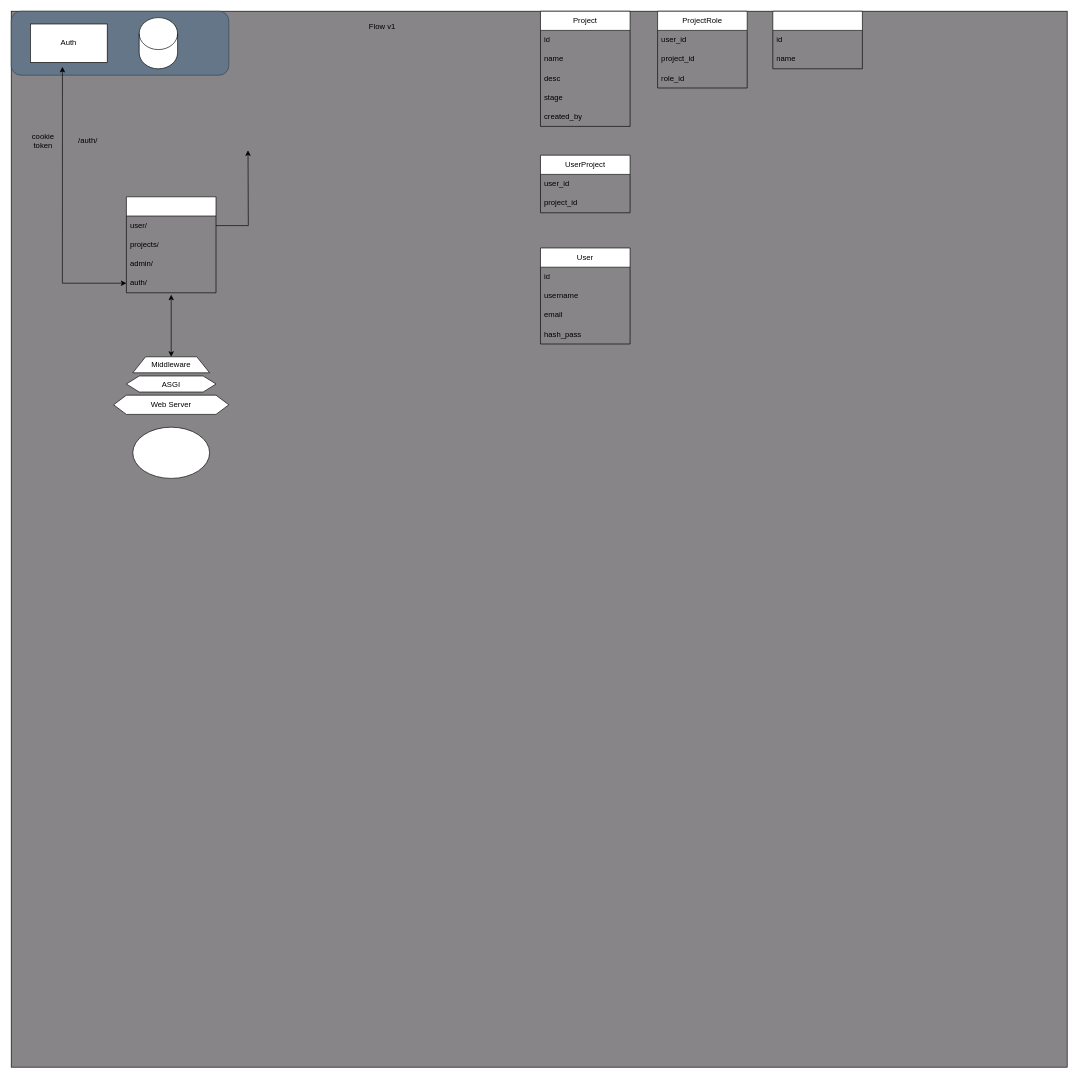
The diagram is 1078 pixels wide and 1078 high, and some of its shapes have lost their labels. Here are the shapes that lost their labels. From the top down, the box of each, then its label:
(139, 17, 178, 69): DB
(772, 11, 862, 69): Role
(126, 196, 216, 293): App
(132, 427, 210, 478): Front-End
